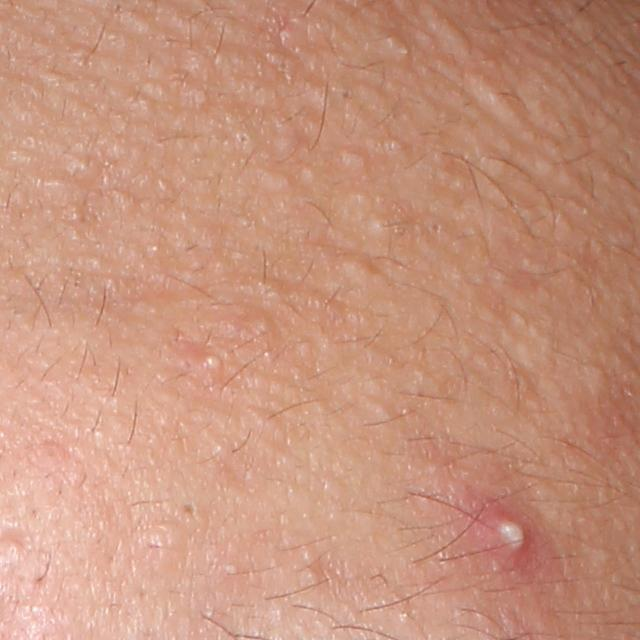comedo: (468, 71, 516, 116), (340, 253, 385, 290), (439, 26, 474, 60), (365, 208, 395, 242), (228, 124, 256, 159), (66, 150, 101, 177), (340, 147, 369, 172), (256, 313, 277, 339), (179, 497, 199, 519), (384, 33, 404, 50), (593, 549, 614, 565)
pustule: (473, 503, 533, 569)
